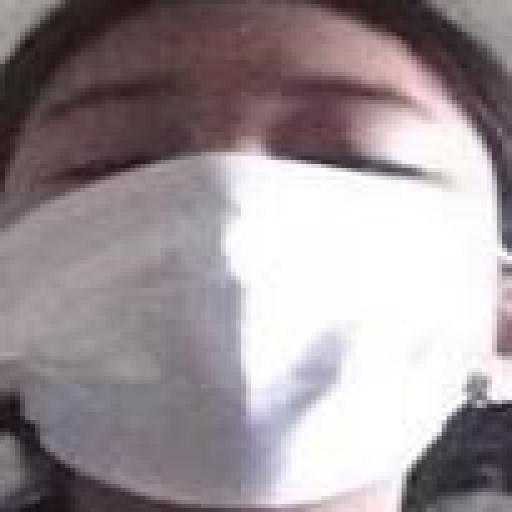mask: (10, 32, 512, 512)
